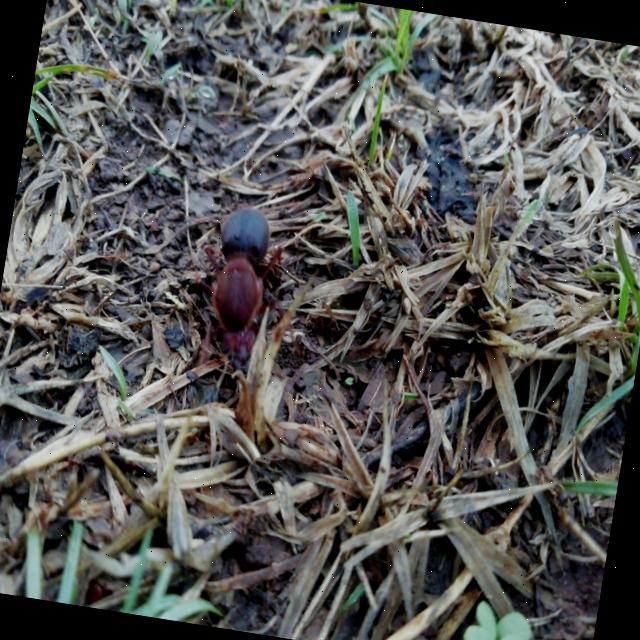Alive-Female-Dealate: (178, 200, 316, 400)
